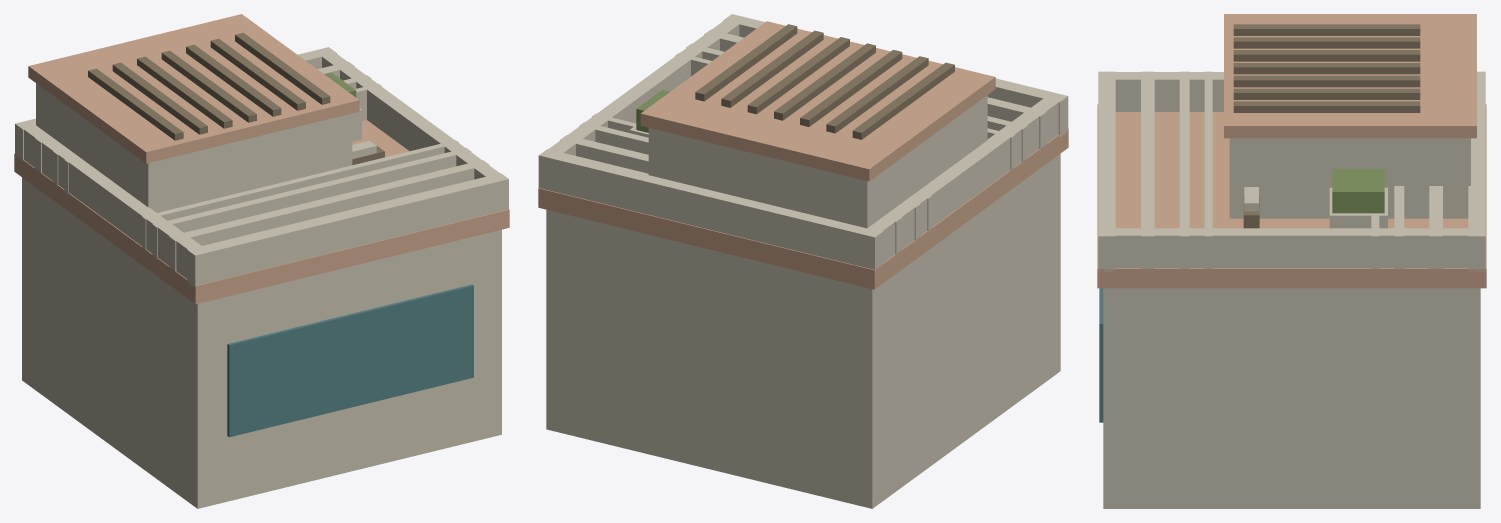
File: villa-kit.glb
3 views of the same model, side by side, from view 1: azimuth 30°, elevation 25°; view 2: azimuth 150°, elevation 25°; view 3: azimuth 270°, elevation 25° (orthographic). The views are drawn at different scales.
Parts seen in each view (by area): view 1: villa-0, villa-4, villa-2, villa-1, villa-3; view 2: villa-0, villa-4, villa-2, villa-1, villa-3; view 3: villa-0, villa-2, villa-4, villa-1, villa-3.
Part boxes in pixels (x1,y1,x2,y2): villa-0: [14, 47, 509, 508]; villa-4: [14, 14, 509, 508]; villa-2: [34, 28, 488, 494]; villa-1: [52, 53, 471, 481]; villa-3: [64, 69, 458, 463]; villa-0: [538, 14, 1068, 508]; villa-4: [538, 21, 1068, 508]; villa-2: [560, 27, 1047, 254]; villa-1: [579, 33, 1027, 240]; villa-3: [592, 38, 1014, 250]; villa-0: [1097, 71, 1486, 508]; villa-2: [1140, 14, 1443, 508]; villa-4: [1097, 14, 1486, 508]; villa-1: [1179, 24, 1404, 508]; villa-3: [1204, 24, 1379, 508].
Size of the model in its own units: 1 by 0.9775 by 1.
